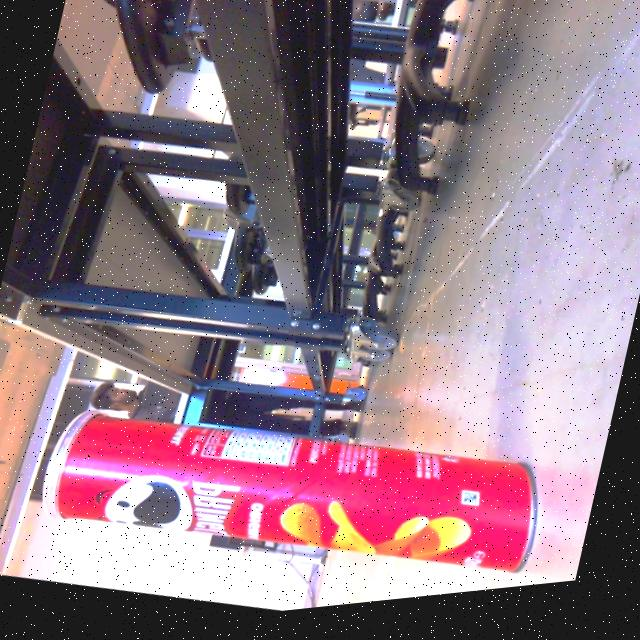redpringles: (20, 343, 561, 638)
